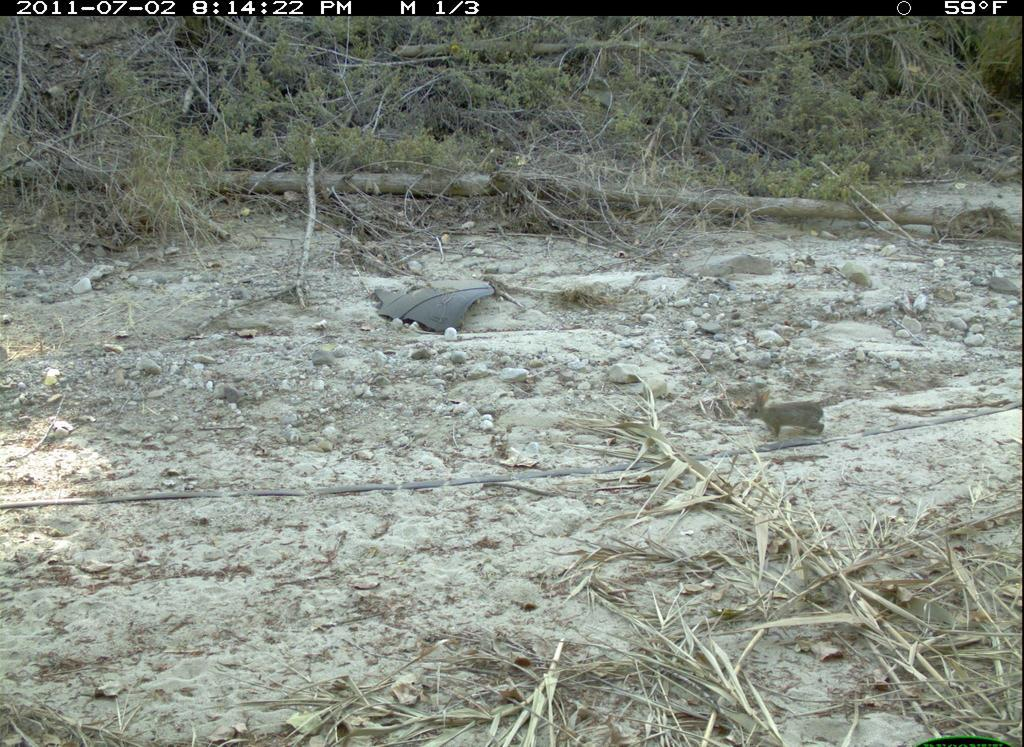rabbit: (737, 370, 871, 450)
